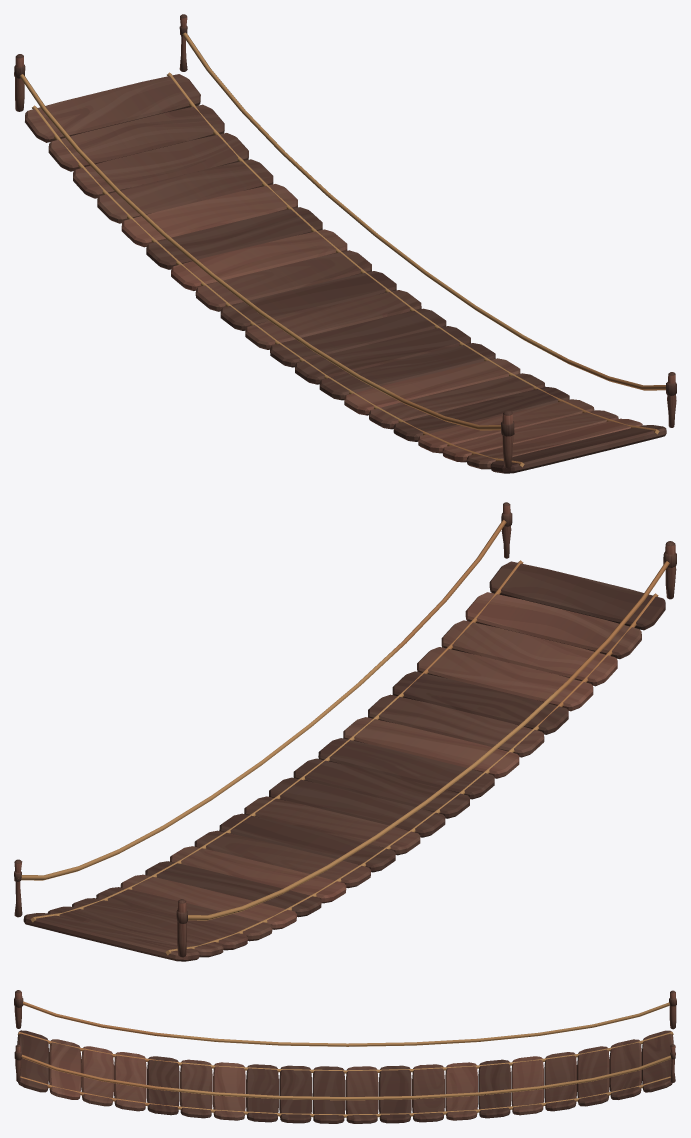
Rendered from Puente_1.fbx.
3 renders of one model, top to bottom at view 1: azimuth 30°, elevation 25°; view 2: azimuth 150°, elevation 25°; view 3: azimuth 270°, elevation 25°, orthographic. The views are drawn at different scales.
Visible parts, largest first — view 1: Tablones_p1, CurvaSogas, CurvaSogas2, Palos_puente; view 2: Tablones_p1, CurvaSogas, CurvaSogas2, Palos_puente; view 3: Tablones_p1, CurvaSogas, CurvaSogas2, Palos_puente.
Part boxes in pixels (bbox=[...]): Tablones_p1: bbox=[25, 74, 666, 473]; CurvaSogas: bbox=[19, 32, 665, 430]; CurvaSogas2: bbox=[32, 72, 659, 467]; Palos_puente: bbox=[14, 14, 676, 468]; Tablones_p1: bbox=[23, 561, 665, 961]; CurvaSogas: bbox=[18, 520, 669, 920]; CurvaSogas2: bbox=[30, 560, 658, 955]; Palos_puente: bbox=[14, 502, 676, 957]; Tablones_p1: bbox=[17, 1030, 673, 1123]; CurvaSogas: bbox=[21, 1001, 670, 1100]; CurvaSogas2: bbox=[17, 1032, 673, 1117]; Palos_puente: bbox=[14, 990, 676, 1082].
Bounding box in the file's own units: 902 × 593 × 4430.
